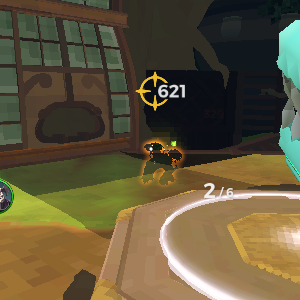model: (140, 139, 178, 185)
